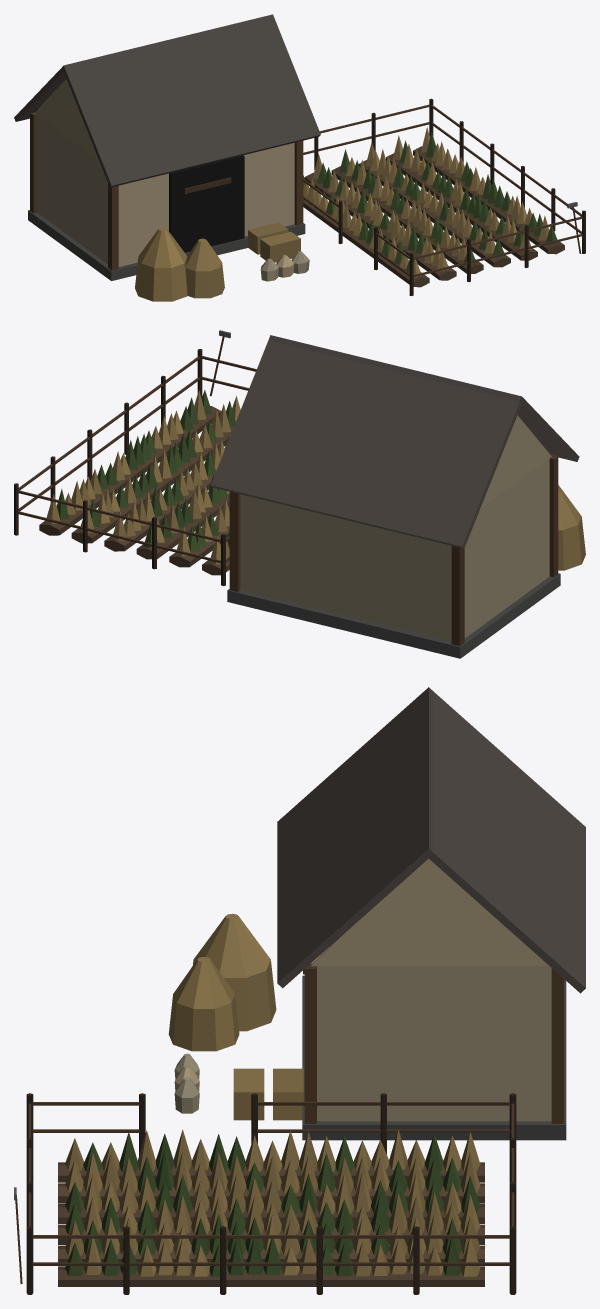
The model's file is walk_hallowed_farm.glb.
The picture shows the model from 3 angles, top to bottom: view 1: azimuth 30°, elevation 25°; view 2: azimuth 150°, elevation 25°; view 3: azimuth 270°, elevation 25°; orthographic projection. The views are drawn at different scales.
Parts seen in each view (by area): view 1: walk_hallowed_farm, walk_hallowed_farm_roof; view 2: walk_hallowed_farm, walk_hallowed_farm_roof; view 3: walk_hallowed_farm, walk_hallowed_farm_roof.
Boxes of the visible parts, <box> form: walk_hallowed_farm: <box>28,79,585,301</box>; walk_hallowed_farm_roof: <box>14,14,320,187</box>; walk_hallowed_farm: <box>14,330,585,658</box>; walk_hallowed_farm_roof: <box>211,335,579,548</box>; walk_hallowed_farm: <box>14,858,566,1294</box>; walk_hallowed_farm_roof: <box>277,687,585,993</box>.
Size of what is drawn, in the model's own units: 12.85 by 6.04 by 10.18.
Materials: 2 (2 with a texture image).
